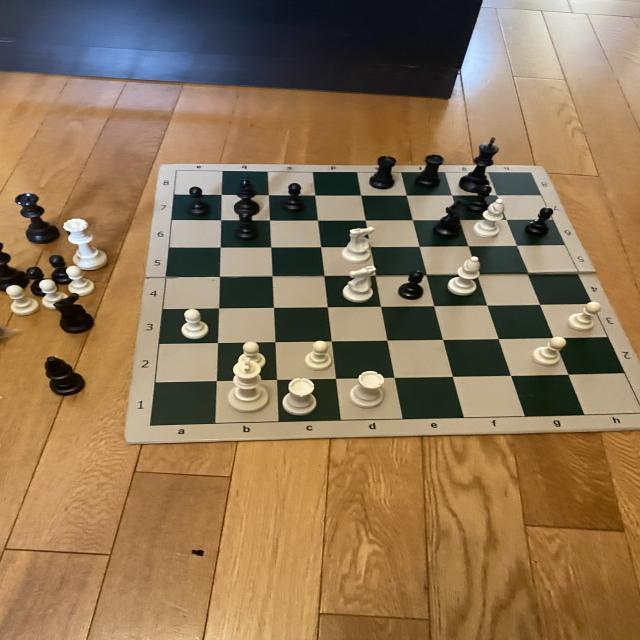chess-table-corners: (144, 420, 160, 430), (525, 169, 538, 177), (170, 168, 184, 174), (633, 406, 640, 416)
